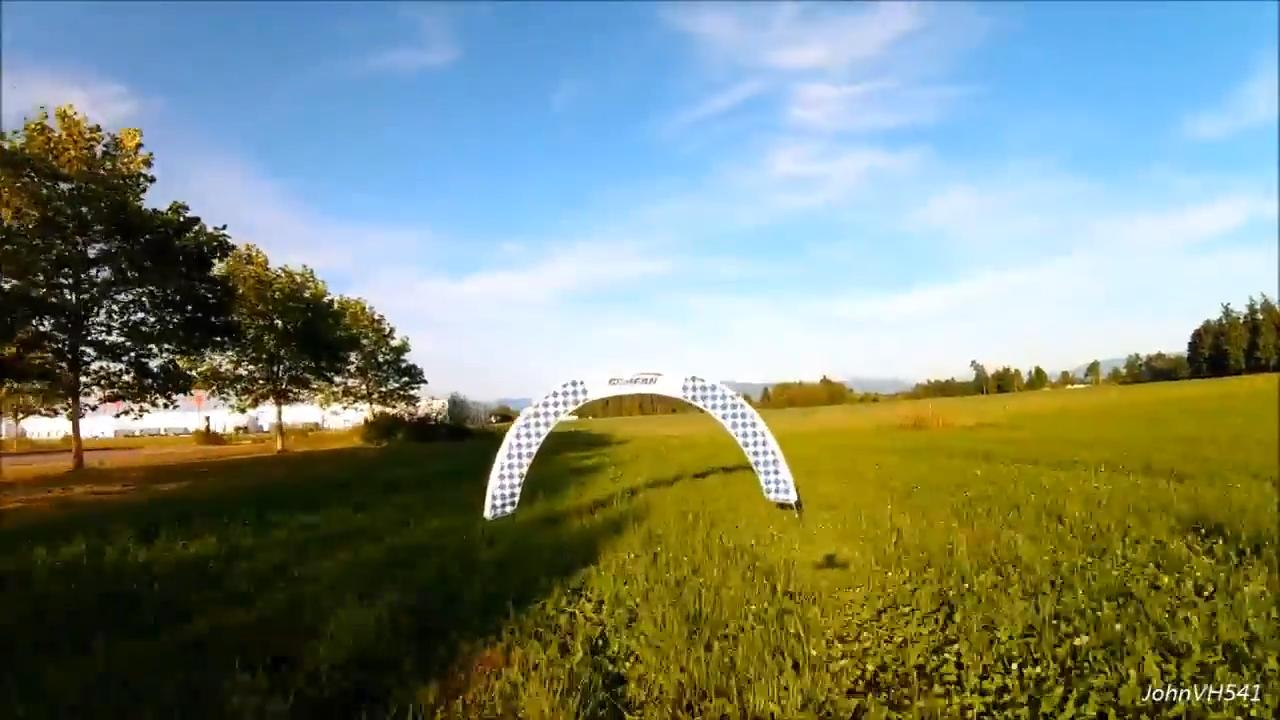gate: (482, 365, 803, 530)
